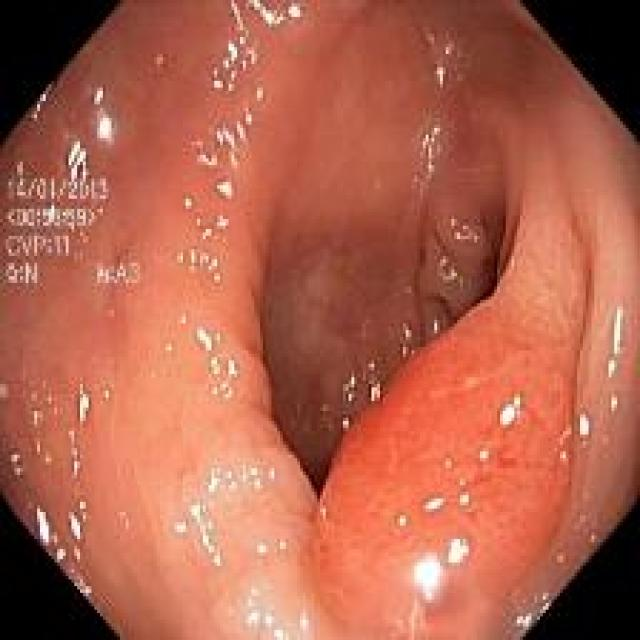Polyps: (314, 208, 592, 639)
